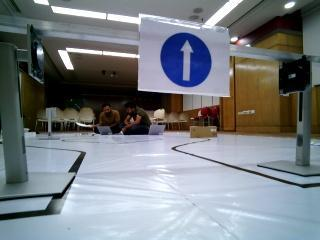straight: (141, 19, 228, 95)
